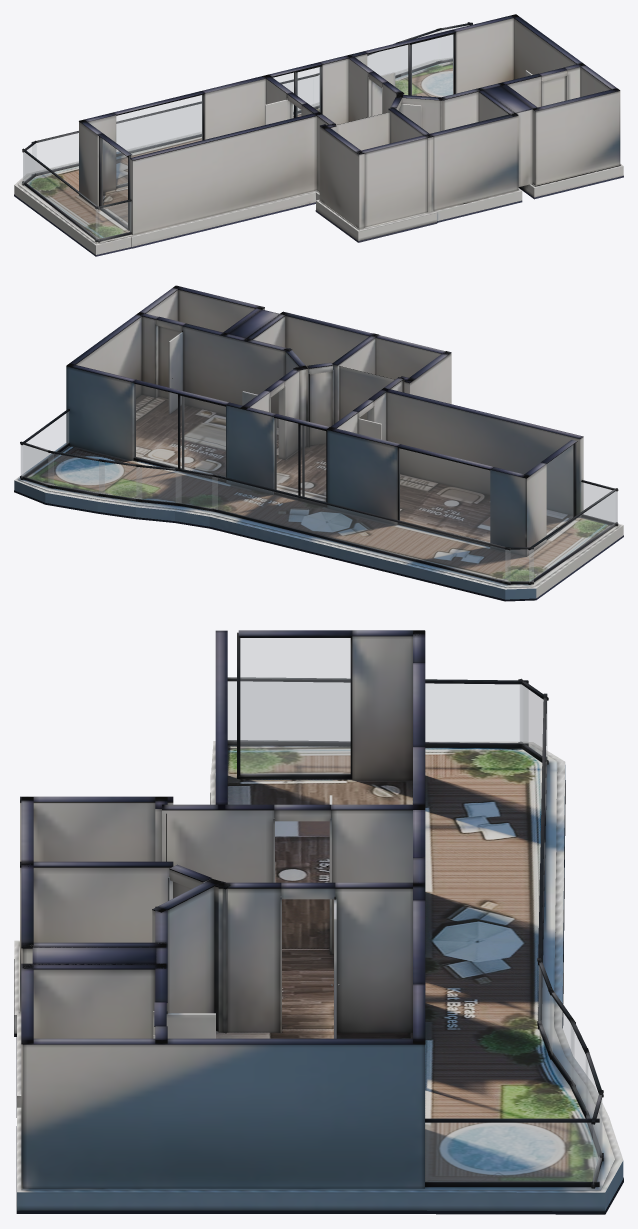
The picture shows the model from 3 angles, top to bottom: view 1: azimuth 30°, elevation 25°; view 2: azimuth 150°, elevation 25°; view 3: azimuth 270°, elevation 25°; orthographic projection. The views are drawn at different scales.
Parts seen in each view (by area): view 1: plan, railg7_m, glass0_m, glass3_m, railg9_m, glass1_m, glass2_m, railg0_m, railg3_m, railg4_m, railg8_m; view 2: plan, railg7_m, glass0_m, glass3_m, glass2_m, railg9_m, glass1_m, railg3_m, railg5_m, railg1_m, railg4_m, railg6_m (+3 smaller); view 3: plan, glass1_m, railg9_m, railg1_m, railg8_m, railg5_m, railg4_m, railg6_m.
Boxes of the visible parts, <box> form: plan: <box>14,14,623,256</box>; railg7_m: <box>32,76,317,173</box>; glass0_m: <box>116,95,202,185</box>; glass3_m: <box>367,34,453,96</box>; railg9_m: <box>23,152,99,239</box>; glass1_m: <box>101,138,127,226</box>; glass2_m: <box>274,67,320,117</box>; railg0_m: <box>96,202,130,239</box>; railg3_m: <box>401,30,441,73</box>; railg4_m: <box>372,48,396,74</box>; railg8_m: <box>23,144,35,182</box>; plan: <box>14,285,623,601</box>; railg7_m: <box>213,477,510,582</box>; glass0_m: <box>399,448,489,542</box>; glass3_m: <box>134,384,225,476</box>; glass2_m: <box>275,418,325,501</box>; railg9_m: <box>529,491,616,582</box>; glass1_m: <box>547,445,573,534</box>; railg3_m: <box>48,453,104,494</box>; railg5_m: <box>136,467,181,503</box>; railg1_m: <box>21,412,68,477</box>; railg4_m: <box>99,461,141,499</box>; railg6_m: <box>176,471,217,509</box>; plan: <box>14,630,623,1214</box>; glass1_m: <box>240,638,350,774</box>; railg9_m: <box>228,681,527,743</box>; railg1_m: <box>425,1123,599,1181</box>; railg8_m: <box>520,685,547,763</box>; railg5_m: <box>550,995,573,1083</box>; railg4_m: <box>571,1025,587,1114</box>; railg6_m: <box>539,966,552,1054</box>.
Size of the model in its own units: 15.13 by 2.62 by 8.63.
Materials: 2 (1 with a texture image).
